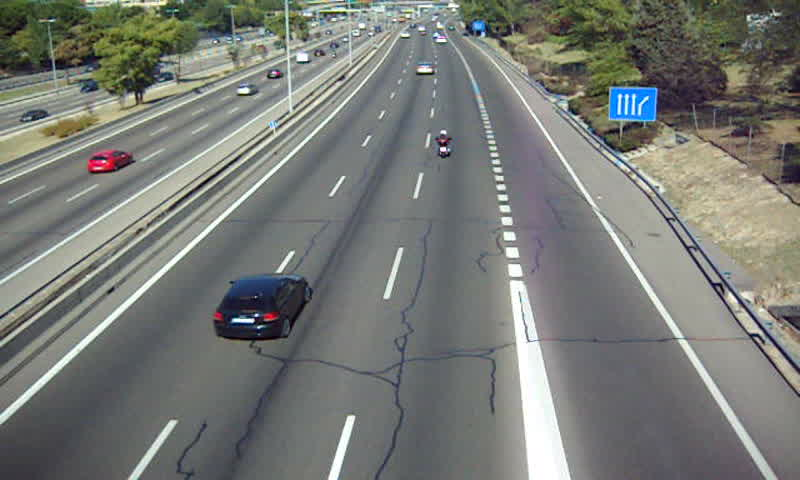car: (212, 274, 313, 342), (415, 61, 434, 76)
motorcycle: (435, 129, 454, 161)
